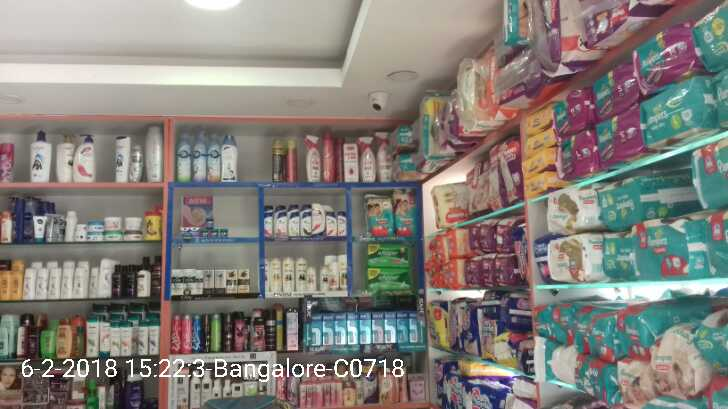beauty: (172, 264, 252, 296), (266, 260, 309, 296), (312, 204, 326, 239), (323, 212, 339, 240), (319, 264, 332, 294), (262, 212, 276, 236), (336, 215, 348, 238)
pharmacy: (363, 268, 416, 295), (363, 197, 394, 240), (366, 240, 412, 268), (391, 189, 417, 237), (198, 222, 237, 237)
